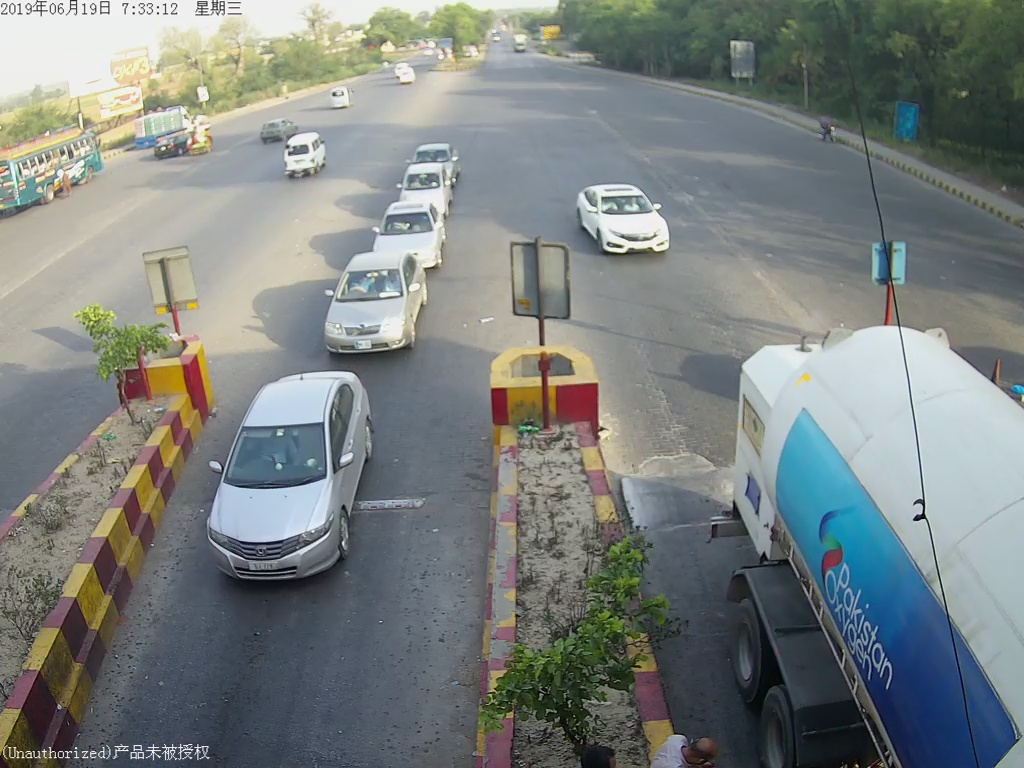Cat-1: (210, 369, 385, 571), (317, 252, 437, 363), (571, 176, 687, 257)
